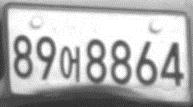4: (161, 40, 185, 89)
6: (135, 40, 159, 85)
8: (109, 38, 132, 85), (84, 38, 108, 83), (12, 34, 34, 78)
9: (36, 36, 56, 80)
어: (58, 45, 81, 84)
